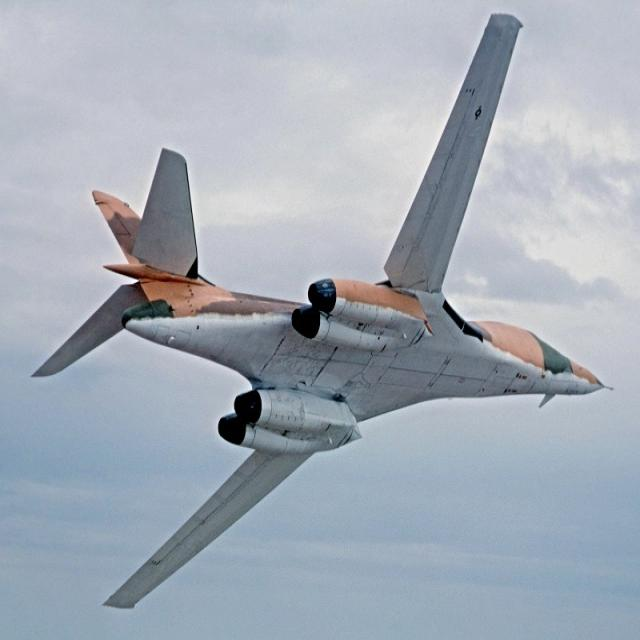B1: (0, 8, 618, 617)
